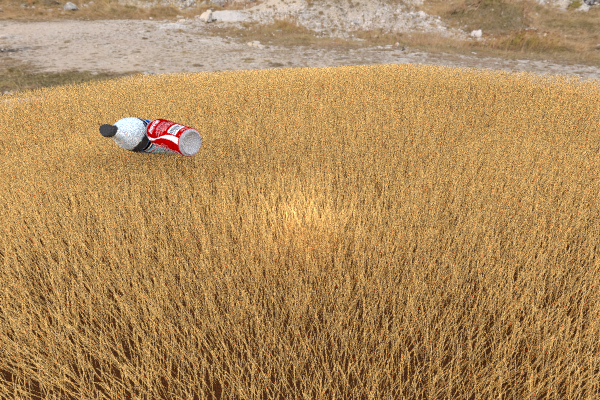Plastic Bottle: (99, 117, 188, 154), (145, 118, 201, 156)
